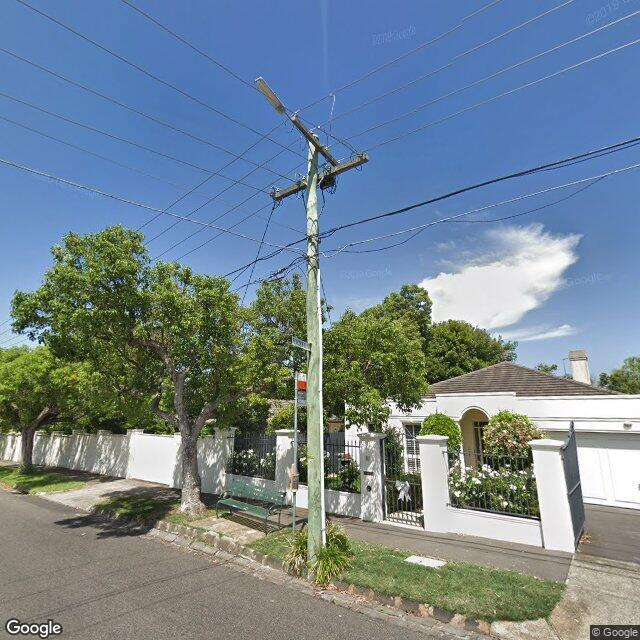crossarm: (271, 154, 369, 201), (291, 116, 339, 166)
streetlight: (254, 77, 292, 120)
timber-pole: (306, 134, 326, 567)
